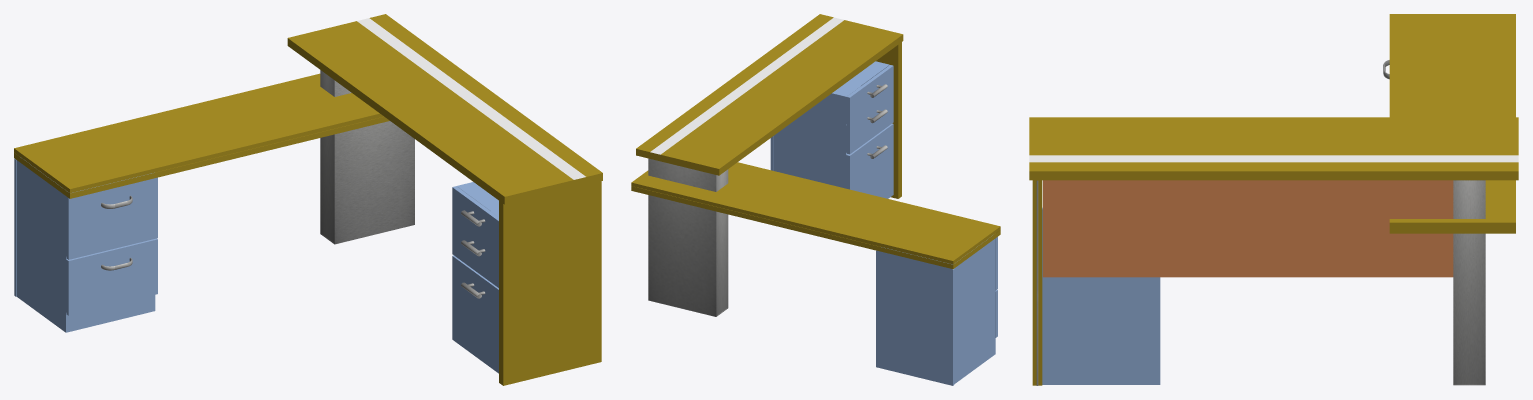
File: ModernDeskOBJ.obj
3 views of the same model, side by side, from view 1: azimuth 30°, elevation 25°; view 2: azimuth 150°, elevation 25°; view 3: azimuth 270°, elevation 25° (orthographic). The views are drawn at different scales.
Visible parts, largest first — view 1: Box002, Desk, Box009, Box007, Box001, Drawer2, Drawer1, Drawer5, WhitePiece, Drawer3, Drawer4, BlackPiece (+3 smaller); view 2: Box002, Desk, Box001, Box007, Box003, Drawer5, Drawer3, Drawer4, WhitePiece, Box009, Drawer2, Drawer1 (+3 smaller); view 3: Box005, Desk, Box002, Box003, Box007, WhitePiece, Box009, BlackPiece, Edge3, Edge2.
Part boxes in pixels (x1,y1,x2,y2): Box002: (14,73,389,198); Desk: (287,14,602,204); Box009: (499,181,601,385); Box007: (320,70,414,244); Box001: (14,157,155,332); Drawer2: (16,164,157,259); Drawer1: (16,224,157,315); Drawer5: (452,255,498,373); WhitePiece: (357,18,585,179); Drawer3: (452,186,498,254); Drawer4: (452,221,498,287); BlackPiece: (356,17,587,180); Box002: (631,162,1000,269); Desk: (636,14,903,175); Box001: (876,236,995,385); Box007: (648,158,728,316); Box003: (770,61,889,188); Drawer5: (773,123,893,198); Drawer3: (804,65,893,125); Drawer4: (778,94,893,154); WhitePiece: (650,17,843,154); Box009: (876,42,901,198); Drawer2: (954,235,997,320); Drawer1: (954,290,997,367); Box005: (1043,180,1453,277); Desk: (1029,117,1518,180); Box002: (1389,14,1515,233); Box003: (1042,207,1160,384); Box007: (1453,180,1485,385); WhitePiece: (1029,155,1518,162); Box009: (1032,180,1042,385); BlackPiece: (1029,154,1518,162); Edge3: (1029,175,1518,176); Edge2: (1036,180,1038,385).
Size of the model in its own units: 83.98 by 40.2 by 83.22.
